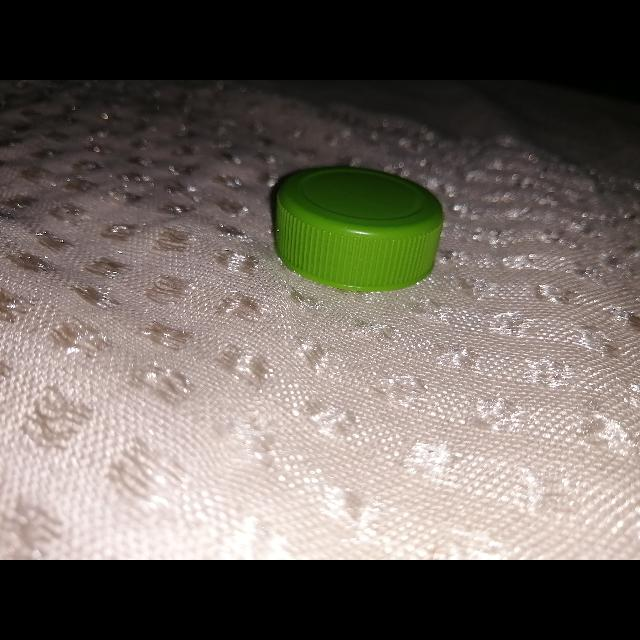plastic_bottle_cap: (276, 166, 444, 292)
